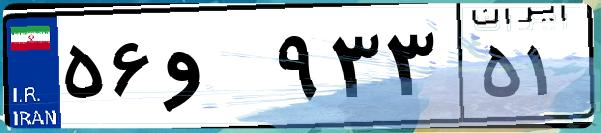1: (525, 38, 570, 115)
3: (385, 28, 445, 110), (330, 28, 385, 110)
5: (57, 26, 110, 100), (475, 38, 525, 113)
6: (110, 28, 158, 98)
9: (270, 28, 330, 110)
و: (158, 20, 270, 120)
